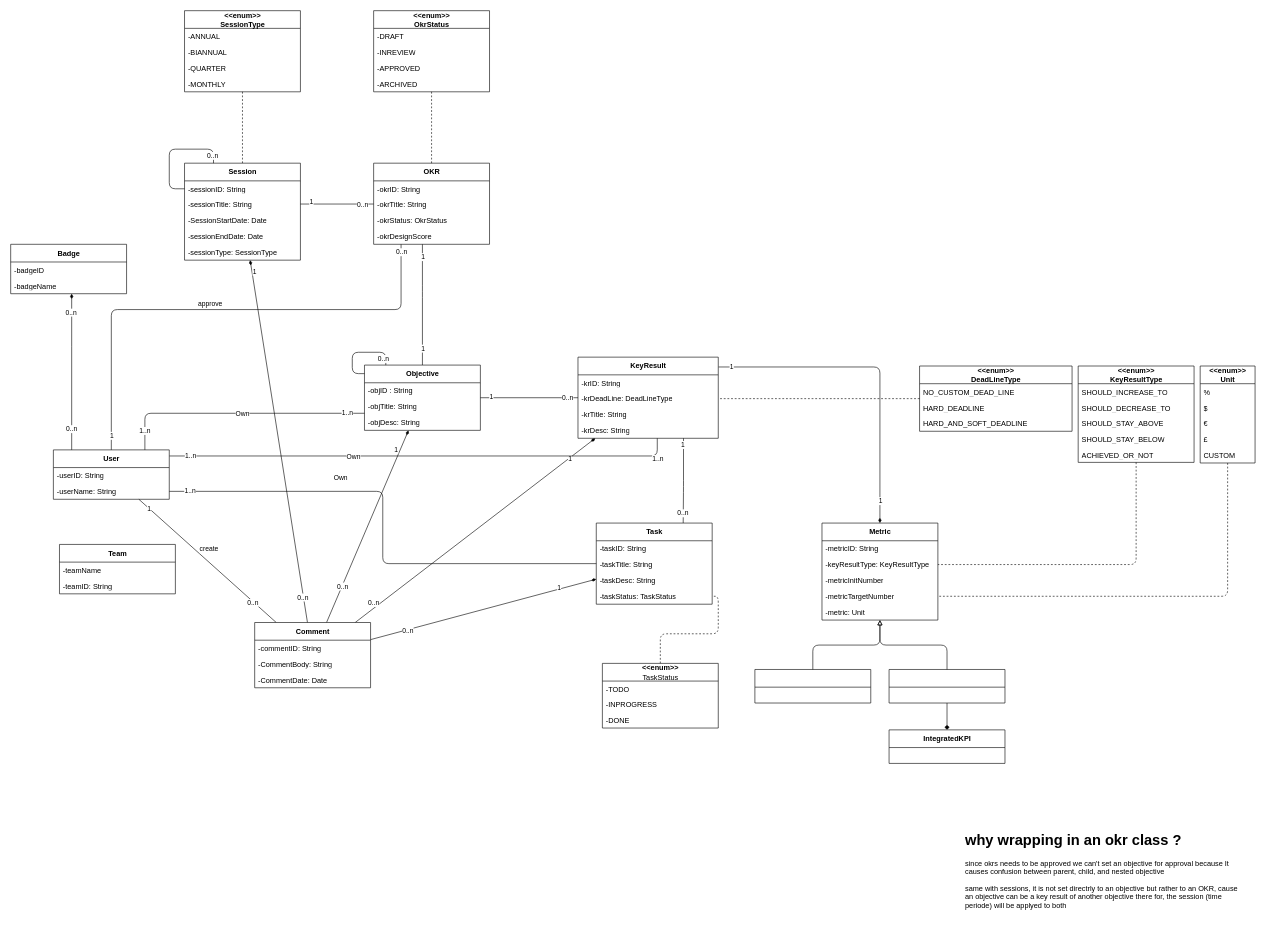
The diagram is 1266 pixels wide and 942 high, and some of its shapes have lost their labels. The shapes that lost their labels are listed below. From the top down, each one's centre as x and y in pixels, then its label:
At [812,686]: "DefindMetric".
At [946,686]: "AutoMetric".
